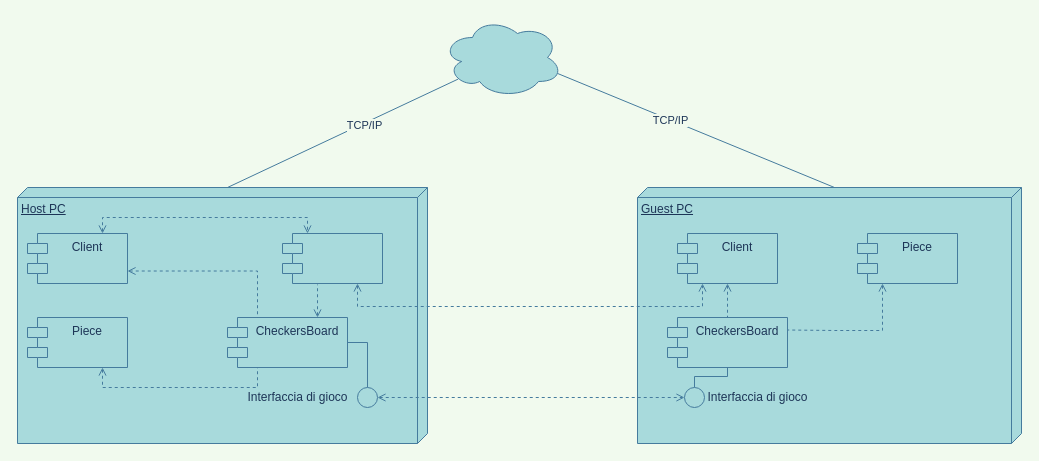
Image size: 1039x461. Some labels were removed from this diagram. The shapes that lost their labels are listed below. From the top down, each one's centre as x and y in pixels, then its label:
At [502,57]: "Internet".
At [332,258]: "Server".
